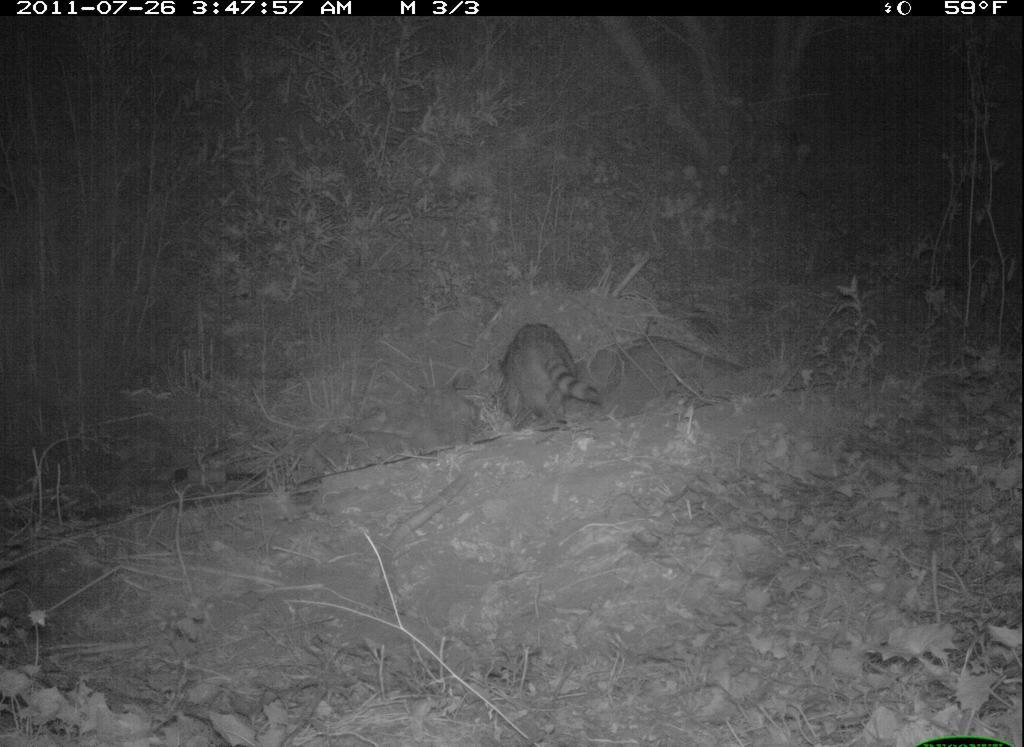raccoon: (491, 312, 607, 438)
